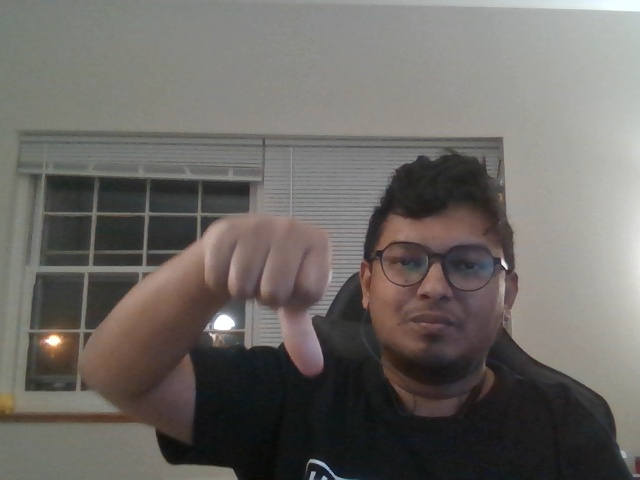yes: (156, 206, 351, 385)
